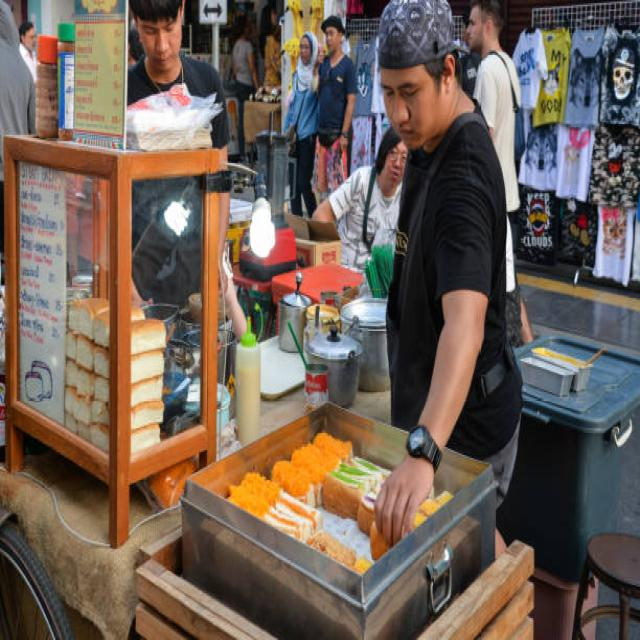Emperan: (0, 10, 539, 640)
